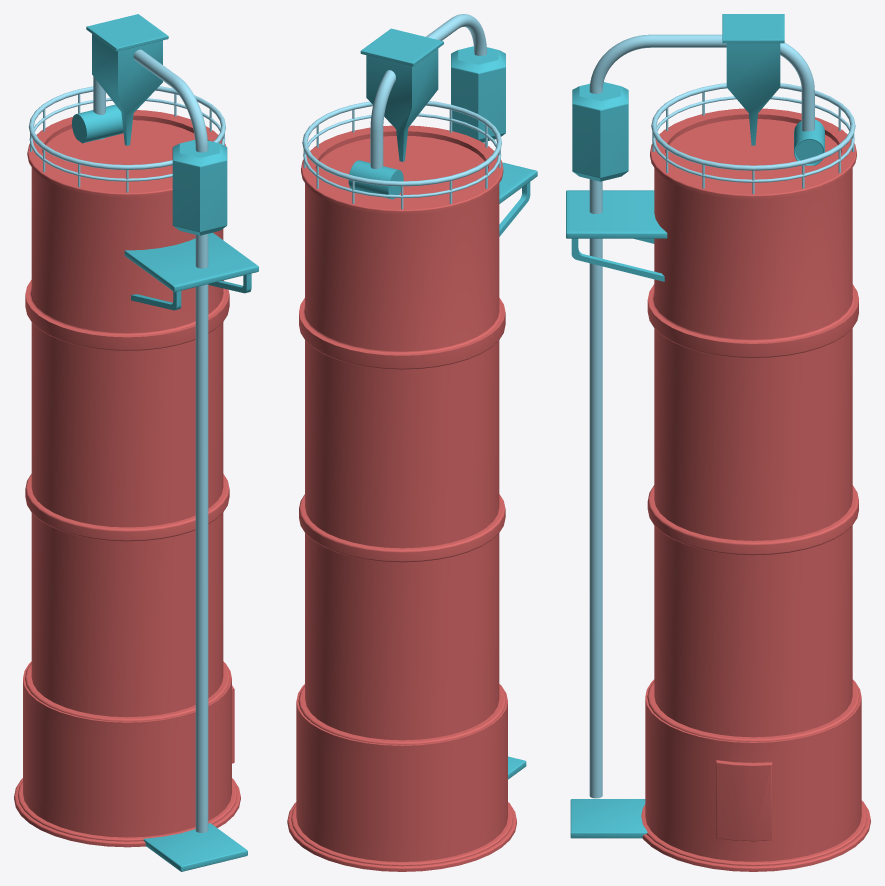
3 views of the same model, side by side, from view 1: azimuth 30°, elevation 25°; view 2: azimuth 150°, elevation 25°; view 3: azimuth 270°, elevation 25° (orthographic). The views are drawn at different scales.
Visible parts, largest first — view 1: 圆柱, 扫描, 立方体.1, 立方体.2, 连接, 立方体, 圆环, 圆柱.1, 圆环.1; view 2: 圆柱, 立方体.1, 连接, 扫描, 圆环, 圆环.1, 立方体.2, 圆柱.1; view 3: 圆柱, 扫描, 立方体.1, 连接, 立方体.2, 立方体, 圆环, 圆环.1, 圆柱.1.
Boxes of the visible parts, left/top/right/bottom form: 圆柱: left=14, top=110, right=240, bottom=847; 扫描: left=93, top=49, right=208, bottom=832; 立方体.1: left=86, top=14, right=168, bottom=145; 立方体.2: left=124, top=232, right=258, bottom=310; 连接: left=172, top=140, right=227, bottom=235; 立方体: left=143, top=823, right=247, bottom=871; 圆环: left=29, top=86, right=225, bottom=169; 圆柱.1: left=72, top=104, right=123, bottom=143; 圆环.1: left=29, top=98, right=225, bottom=181; 圆柱: left=287, top=125, right=516, bottom=871; 立方体.1: left=360, top=28, right=443, bottom=161; 连接: left=451, top=46, right=505, bottom=142; 扫描: left=370, top=14, right=486, bottom=169; 圆环: left=302, top=101, right=501, bottom=186; 圆环.1: left=303, top=113, right=501, bottom=198; 立方体.2: left=499, top=162, right=537, bottom=236; 圆柱.1: left=348, top=160, right=403, bottom=199; 圆柱: left=641, top=108, right=870, bottom=871; 扫描: left=589, top=34, right=814, bottom=798; 立方体.1: left=722, top=14, right=784, bottom=145; 连接: left=572, top=82, right=628, bottom=181; 立方体.2: left=566, top=190, right=667, bottom=281; 立方体: left=570, top=799, right=647, bottom=838; 圆环: left=651, top=83, right=855, bottom=170; 圆环.1: left=652, top=96, right=854, bottom=182; 圆柱.1: left=794, top=119, right=824, bottom=165.
Size of the model in its own units: 111 by 414 by 144.
